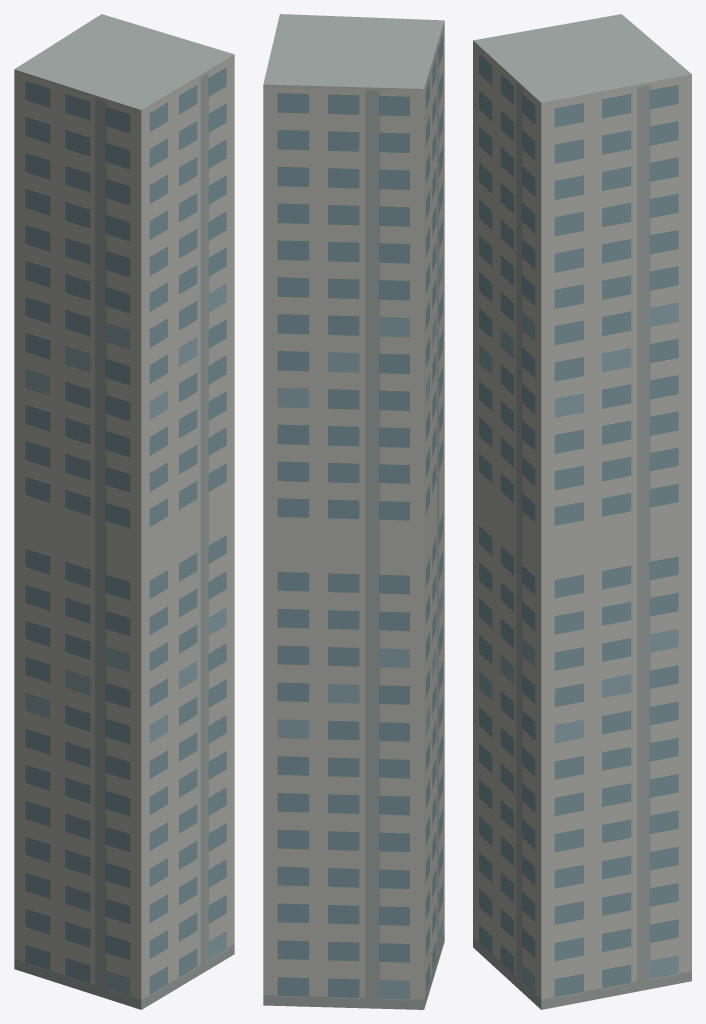
File: survey-upis-32880205.glb
3 views of the same model, side by side, from view 1: azimuth 30°, elevation 25°; view 2: azimuth 150°, elevation 25°; view 3: azimuth 270°, elevation 25° (orthographic). The views are drawn at different scales.
Parts seen in each view (by area): view 1: survey-upis-32880205.tmp; view 2: survey-upis-32880205.tmp; view 3: survey-upis-32880205.tmp.
Boxes of the visible parts, x1=… form: survey-upis-32880205.tmp: x1=14, y1=14, x2=234, y2=1009; survey-upis-32880205.tmp: x1=263, y1=14, x2=444, y2=1009; survey-upis-32880205.tmp: x1=473, y1=14, x2=691, y2=1009.
Size of the model in its own units: 16.04 by 76.25 by 16.67.
